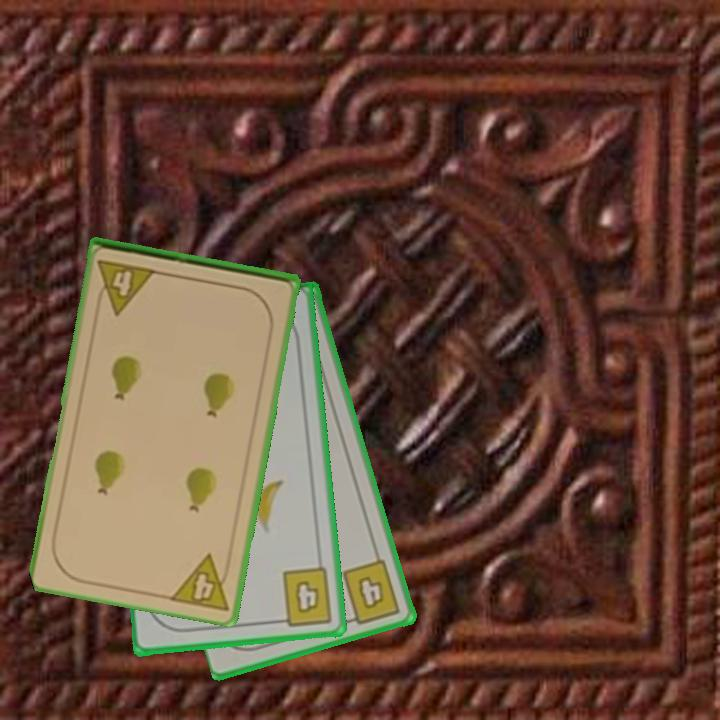4b: (339, 556, 404, 627), (272, 564, 336, 629)
4p: (166, 550, 235, 613), (92, 257, 159, 317)
